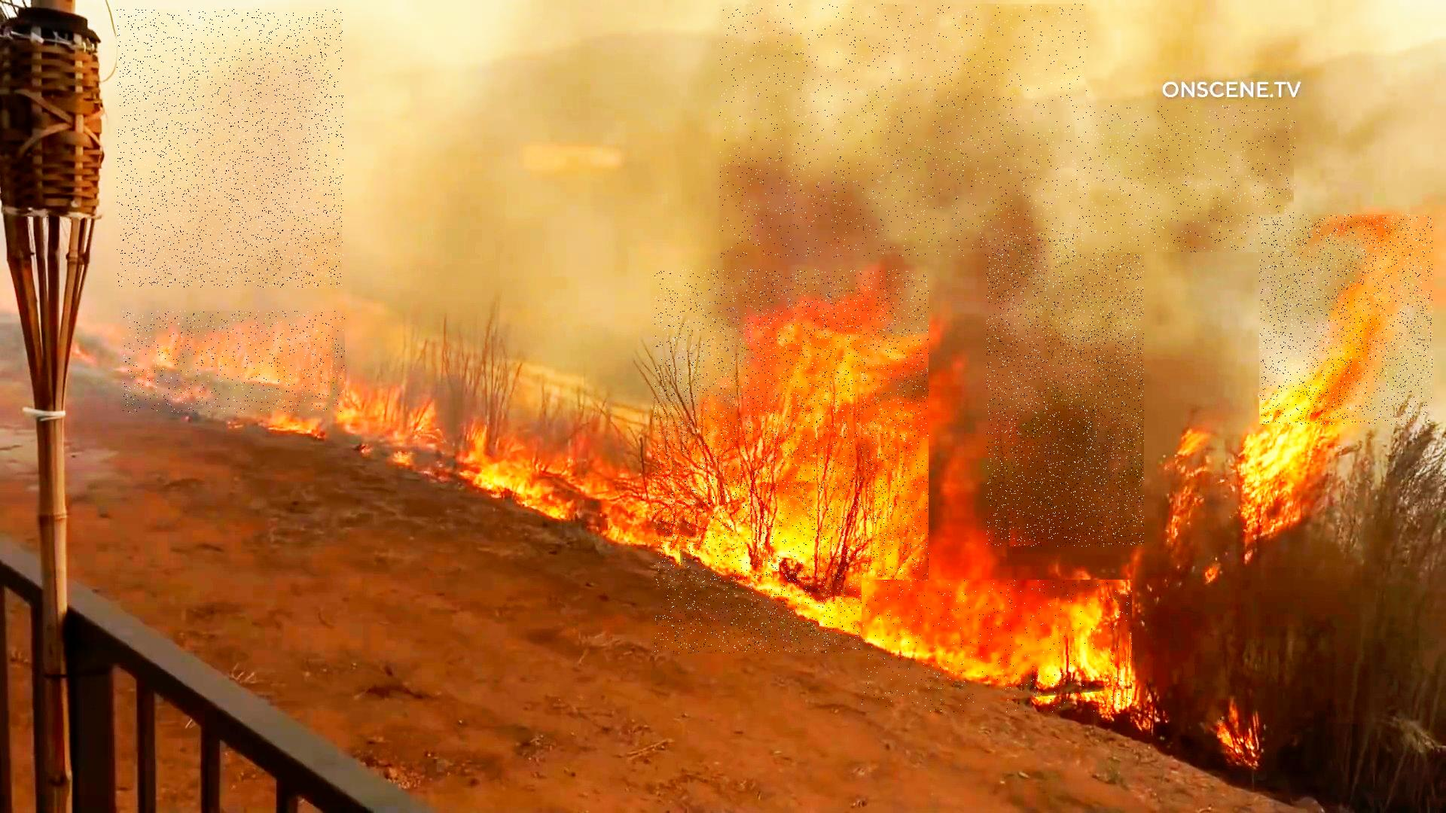fire: (654, 270, 929, 654), (1260, 215, 1433, 425), (862, 580, 1134, 712), (123, 311, 345, 413)
smoke: (720, 4, 1088, 258), (117, 10, 344, 288), (987, 234, 1144, 547), (1075, 105, 1296, 252)
